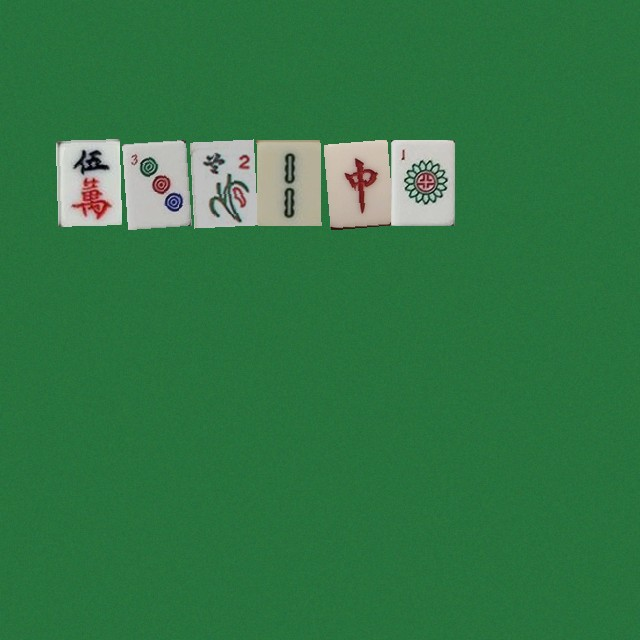tile: (55, 139, 119, 225), (122, 139, 186, 225), (189, 139, 253, 225), (256, 139, 320, 225), (323, 139, 387, 225), (390, 139, 454, 225)
